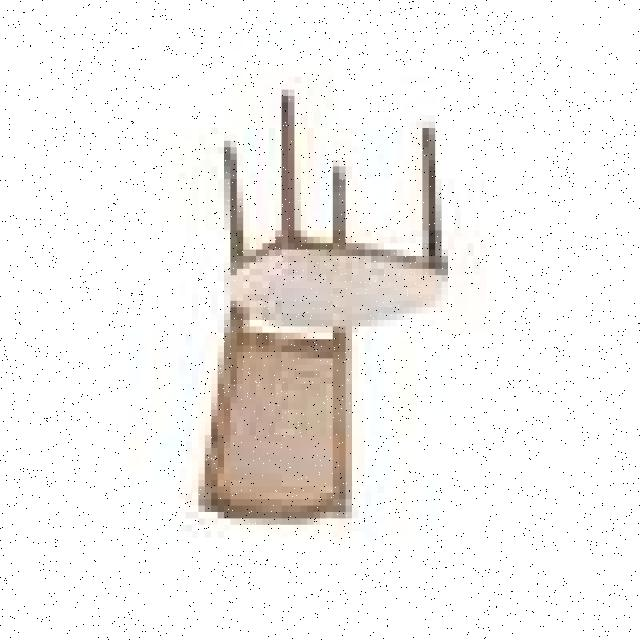bottle: (192, 89, 457, 533)
